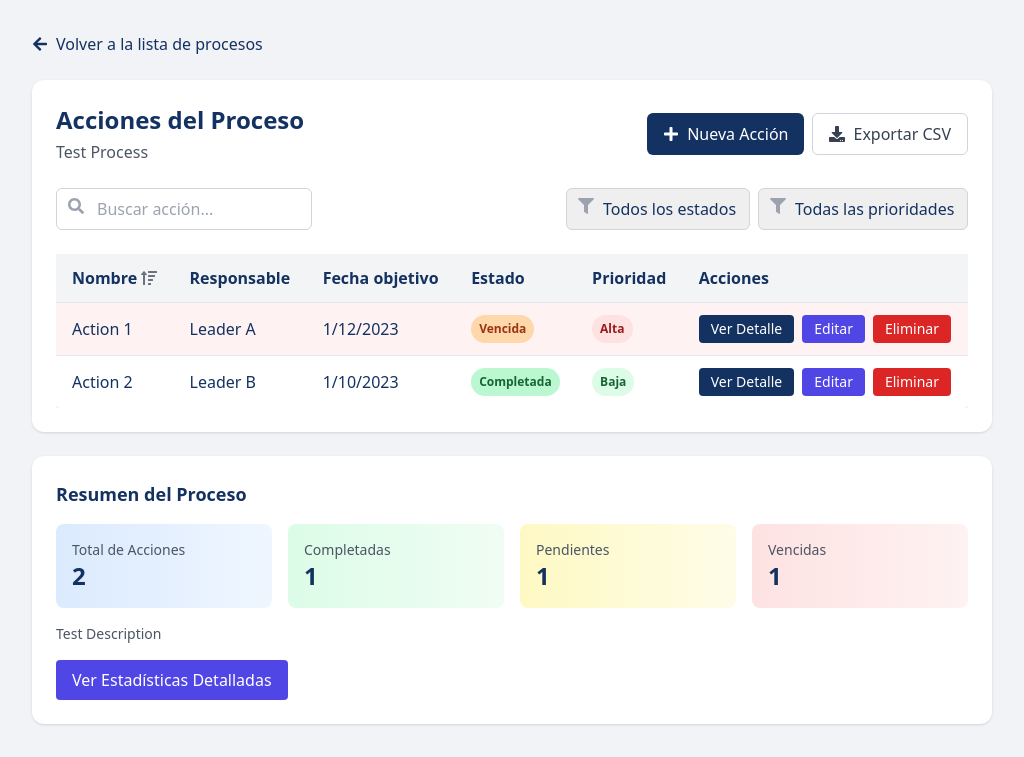
it: ActionsList › should open edit action modal and update successfully
Expected: the text "Action 1" is shown, [56,302,174,356]
Click the button "Editar" in the row of "Action 1" at (834, 329), box [802,315,865,343]
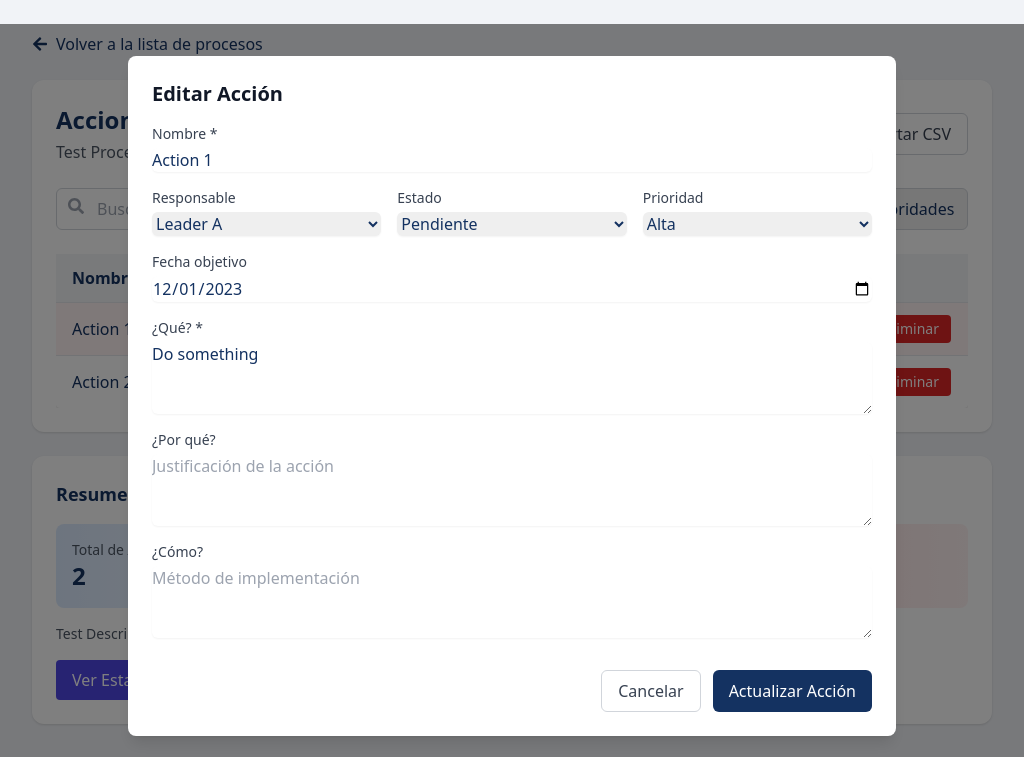
Now the button "Actualizar Acción" is shown, box [713,670,872,712]
Replace the text in the field with placeholder "Nombre de la acción" with "Updated Action" at (512, 160), box [152,148,872,172]
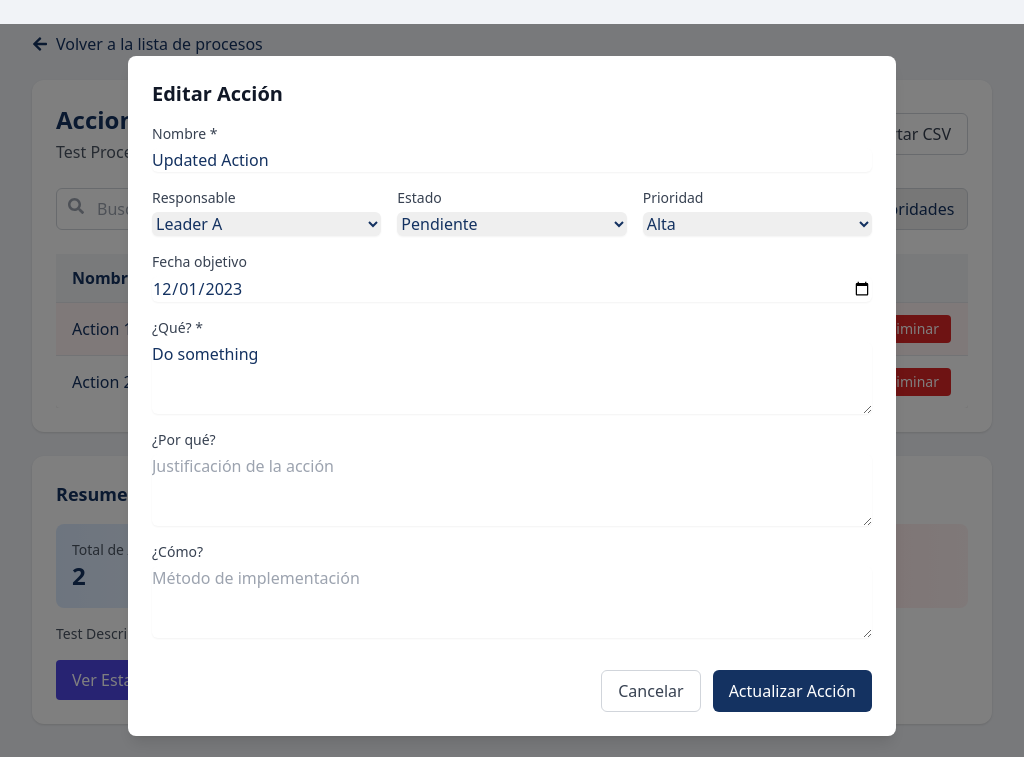
Click the button "Actualizar Acción" at (792, 691), box [713,670,872,712]
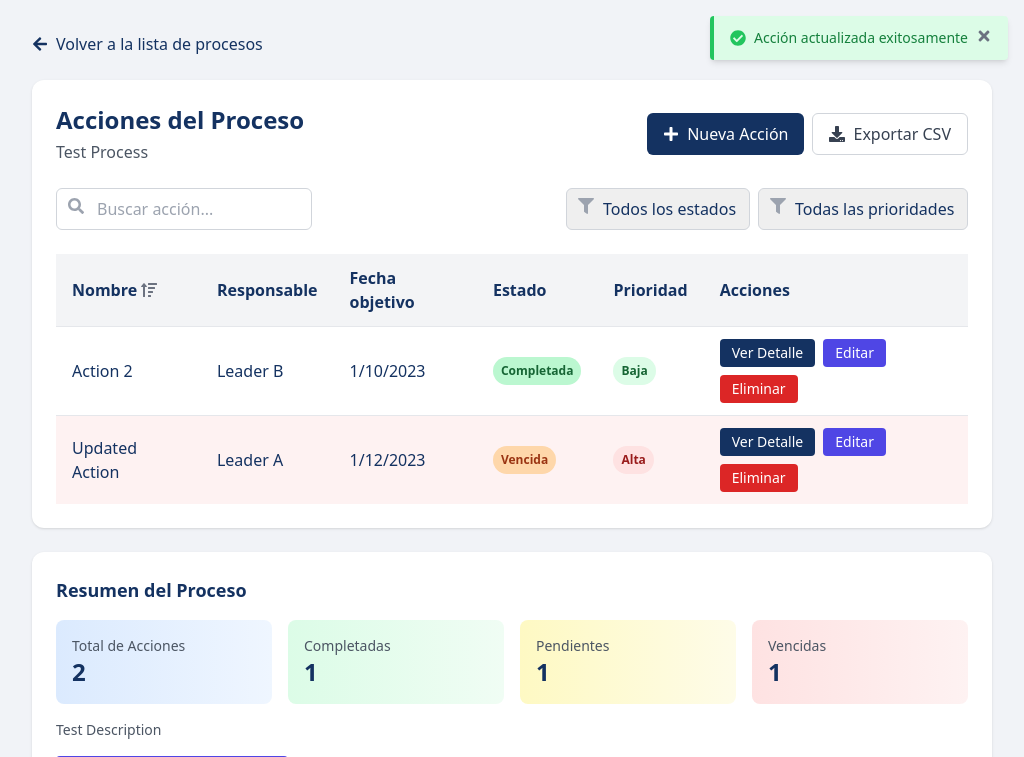
Now the text "Updated Action" is shown, box [56,416,201,504]
